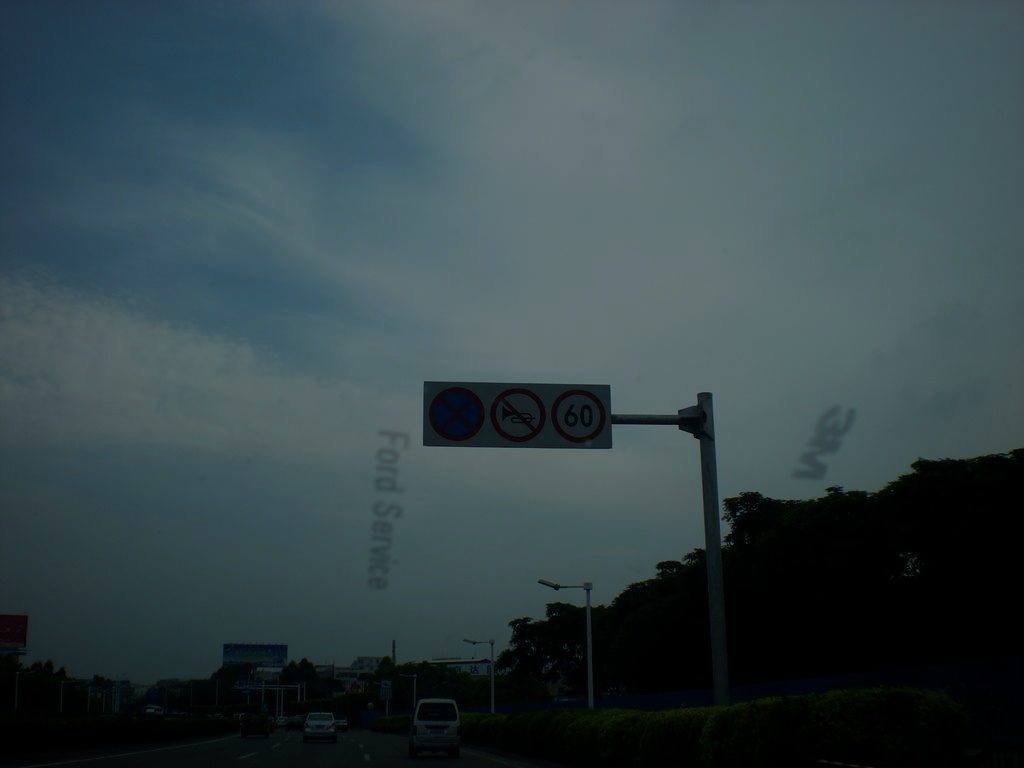Prohibitory Signs: (487, 386, 549, 445), (428, 384, 488, 443), (549, 387, 608, 445)
